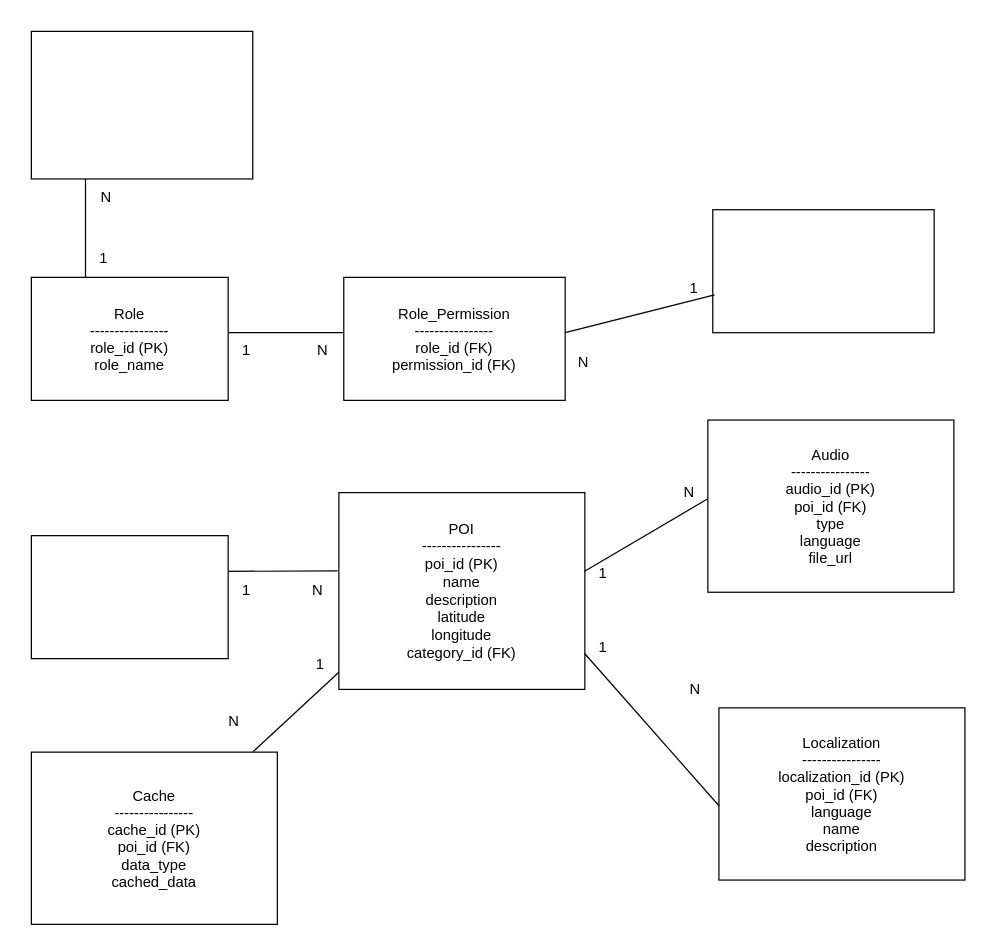
Image size: 986x946. Some labels were removed from this diagram. Each missing label, with the centre of its shape:
Category ---------------- category_id (PK) name: (x=129, y=596)
Permission ---------------- permission_id (PK) permission_name: (x=823, y=270)
User ---------------- user_id (PK) username password role_id (FK): (x=141, y=104)
